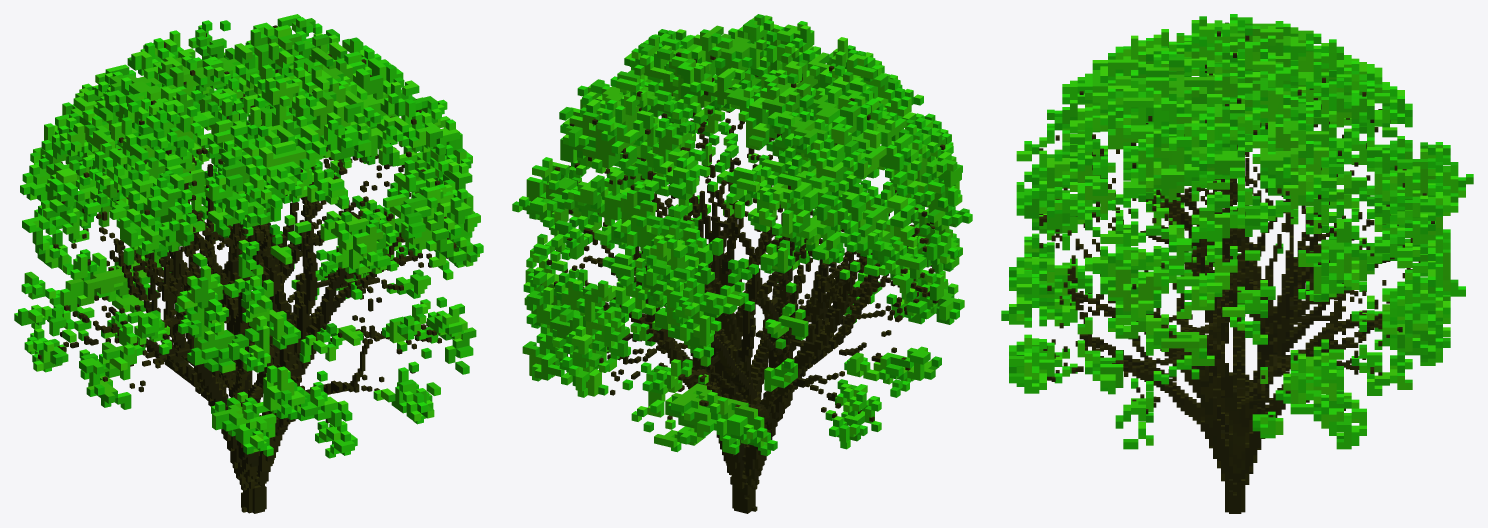
File: tree.fbx
The picture shows the model from 3 angles, left to right: view 1: azimuth 30°, elevation 25°; view 2: azimuth 150°, elevation 25°; view 3: azimuth 270°, elevation 25°; orthographic projection.
Visible parts, largest first — view 1: leaves.001; view 2: leaves.001; view 3: leaves.001.
Part boxes in pixels (x1,y1,x2,y2): leaves.001: (14,14,483,513); leaves.001: (512,14,972,513); leaves.001: (1001,14,1473,513).
Bounding box in the file's own units: 752 × 826 × 765.
